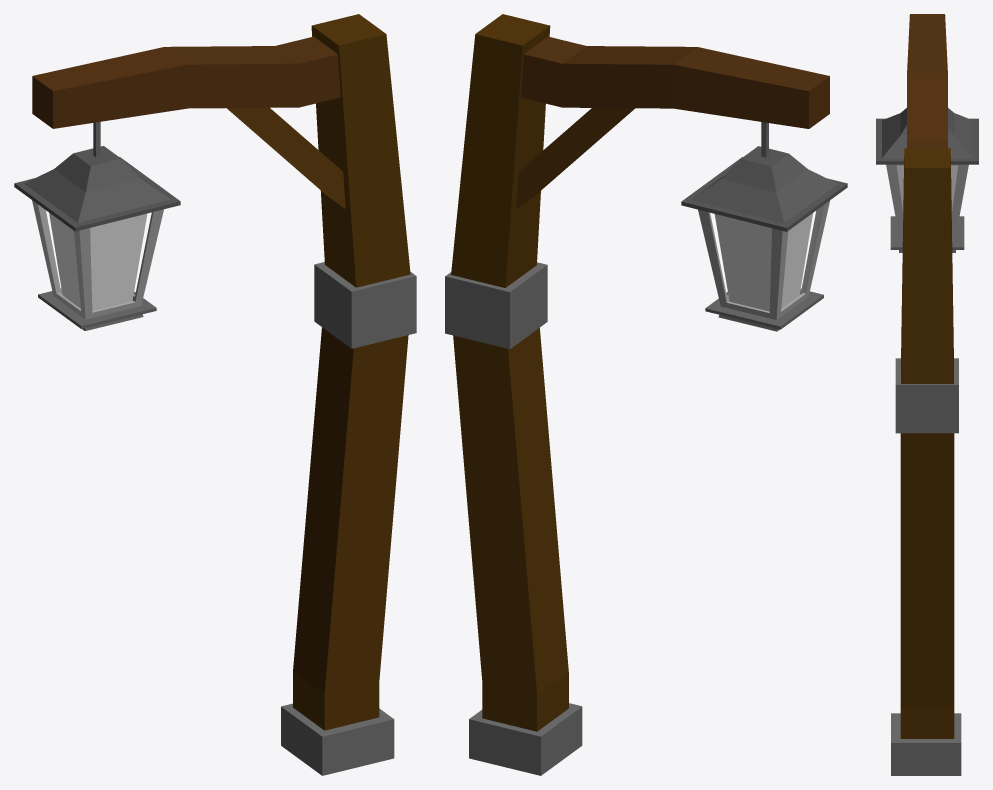
Rendered from Lamp.fbx.
The picture shows the model from 3 angles, left to right: view 1: azimuth 30°, elevation 25°; view 2: azimuth 150°, elevation 25°; view 3: azimuth 270°, elevation 25°; orthographic projection. The views are drawn at different scales.
Visible parts, largest first — view 1: horizontal pole, vertical pole, iron, lamp top, lamp gloww, lamp cover, tilted pole, lamp bot; view 2: horizontal pole, vertical pole, iron, lamp top, lamp gloww, lamp cover, tilted pole, lamp bot; view 3: horizontal pole, iron, vertical pole, lamp top, lamp cover, lamp bot, lamp gloww.
Part boxes in pixels (x1,y1,x2,y2): horizontal pole: (293, 14, 410, 730); vertical pole: (32, 36, 340, 128); iron: (281, 262, 416, 775); lamp top: (14, 146, 180, 231); lamp gloww: (49, 212, 147, 310); lamp cover: (32, 200, 163, 319); tilted pole: (226, 107, 345, 208); lamp bot: (38, 291, 156, 330); horizontal pole: (451, 14, 568, 731); vertical pole: (521, 36, 829, 128); iron: (445, 262, 582, 775); lamp top: (681, 146, 847, 231); lamp gloww: (714, 213, 812, 311); lamp cover: (698, 200, 829, 319); tilted pole: (516, 108, 634, 209); lamp bot: (705, 291, 823, 331); horizontal pole: (900, 148, 954, 738); iron: (891, 358, 961, 775); vertical pole: (907, 14, 947, 148); lamp top: (876, 108, 978, 164); lamp cover: (886, 164, 968, 243); lamp bot: (890, 216, 964, 252); lamp gloww: (896, 165, 958, 212).
Size of the model in its own units: 229 by 457 by 68.08.
